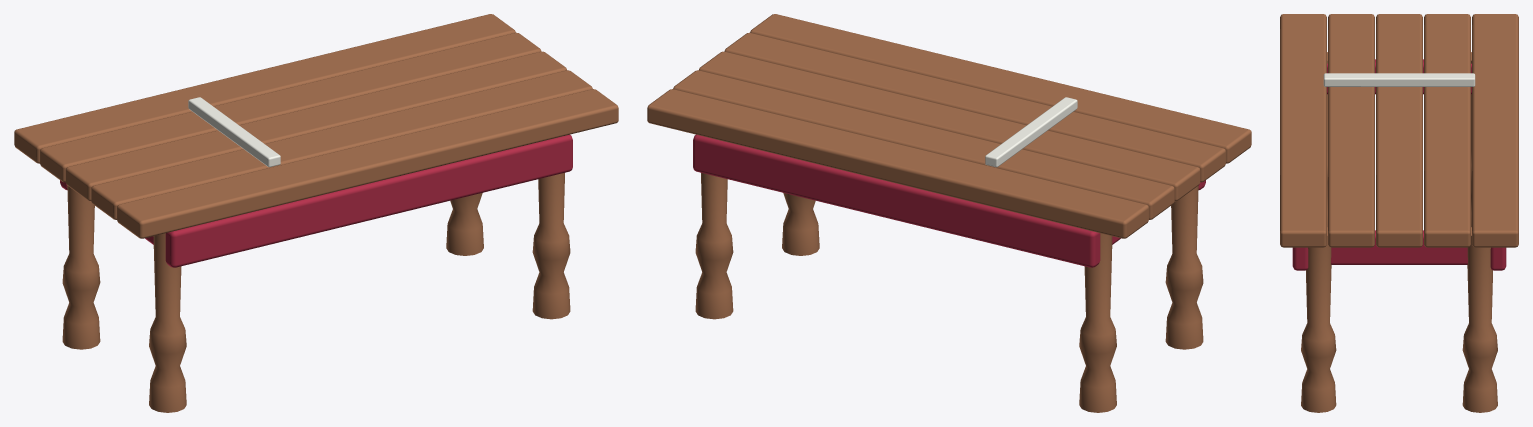
File: storybook-christmas-market-turned-leg-display-table-b99494db__19740.glb
3 renders of one model, left to right at view 1: azimuth 30°, elevation 25°; view 2: azimuth 150°, elevation 25°; view 3: azimuth 270°, elevation 25°, orthographic. The views are drawn at different scales.
Visible parts, largest first — view 1: turned-leg-display-table; view 2: turned-leg-display-table; view 3: turned-leg-display-table.
Part boxes in pixels (x1,y1,x2,y2): turned-leg-display-table: (14, 14, 618, 412); turned-leg-display-table: (647, 14, 1251, 412); turned-leg-display-table: (1280, 14, 1518, 412).
Bounding box in the file's own units: 2.05 × 0.895 × 0.945.
